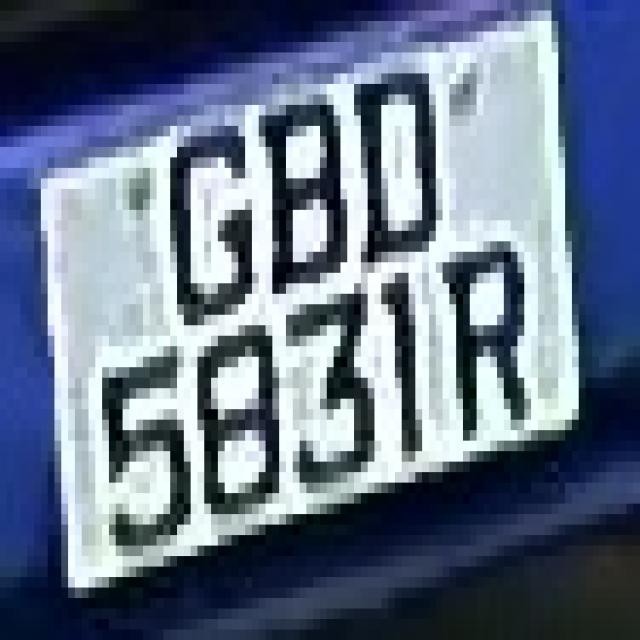1: (368, 262, 429, 504)
3: (266, 273, 374, 493)
5: (89, 314, 204, 588)
8: (156, 294, 292, 577)
B: (245, 74, 354, 326)
D: (341, 31, 456, 273)
G: (143, 94, 266, 326)
R: (422, 230, 545, 482)
